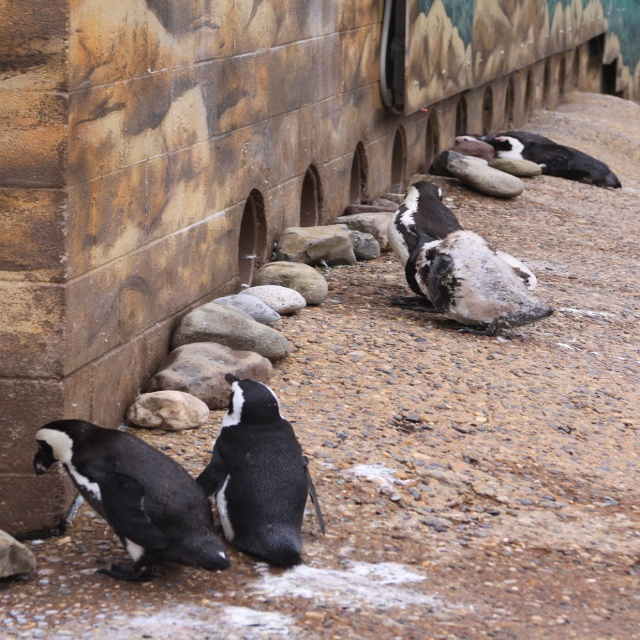Penguin: (28, 429, 215, 586), (181, 371, 313, 585), (389, 181, 456, 298), (509, 126, 620, 189)
